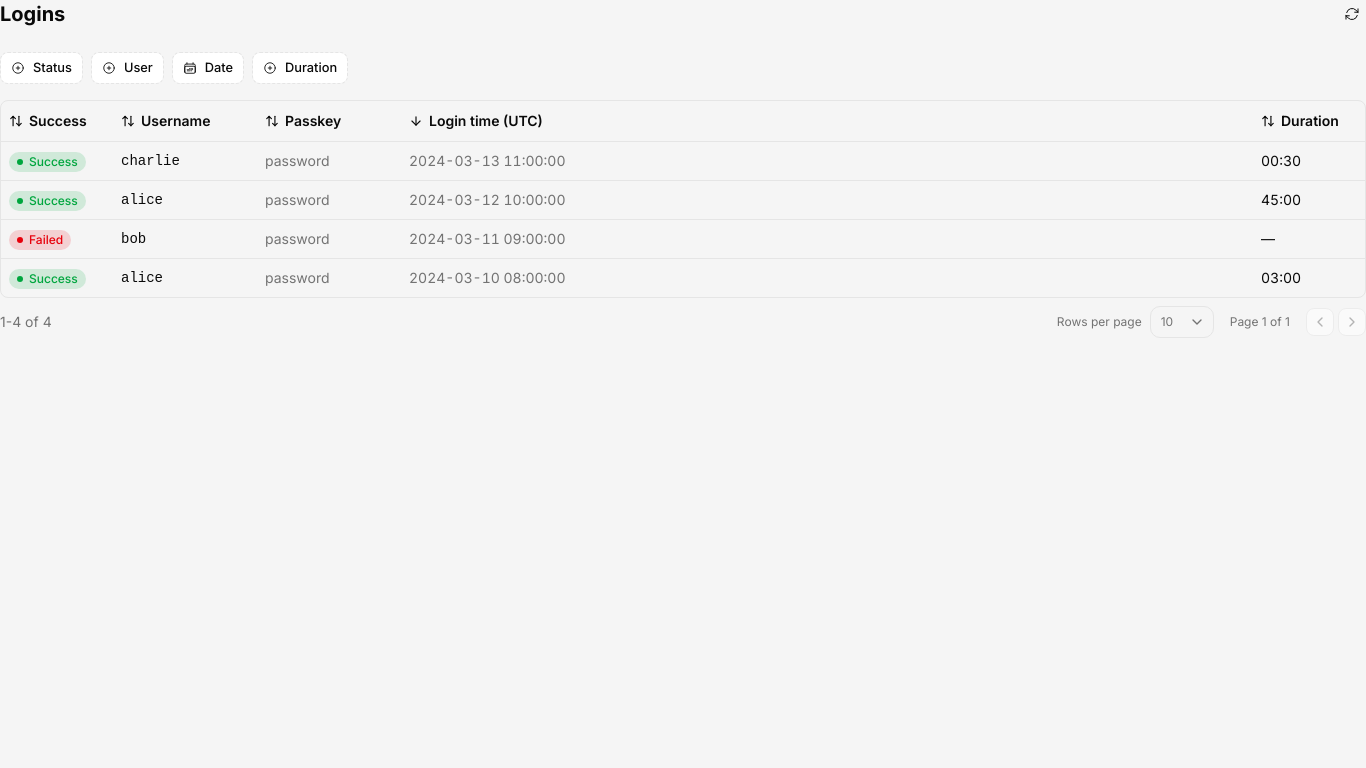
Test: LoginsPage › username dropdown contains all unique usernames
The image size is (1366, 768).
Expected: the text "charlie" is shown, [121,153,180,169]
Step 1. Click the button with aria-label "filter by username" → [127, 68], box [91,52,164,84]
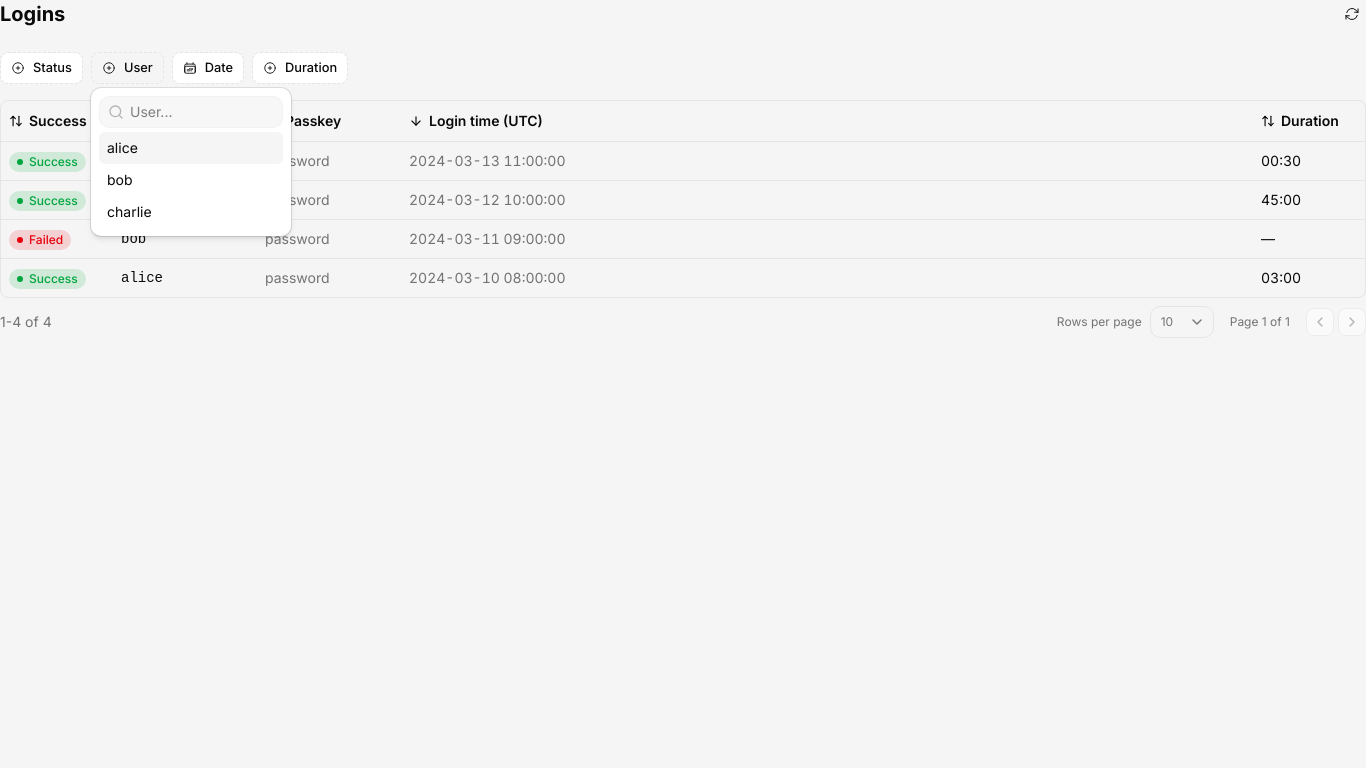
Now the option "alice" is shown, box [99,132,283,164]
Now the option "bob" is shown, box [107,171,132,188]
Now the option "charlie" is shown, box [107,203,152,220]
